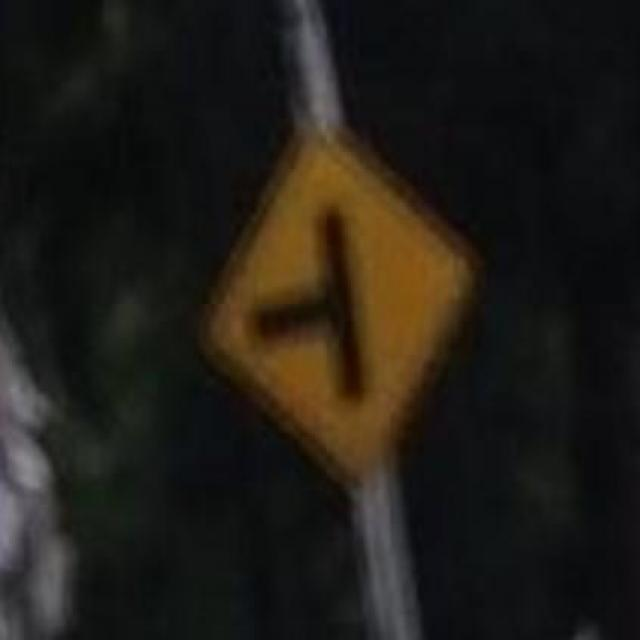traffic sign: (216, 148, 468, 462)
